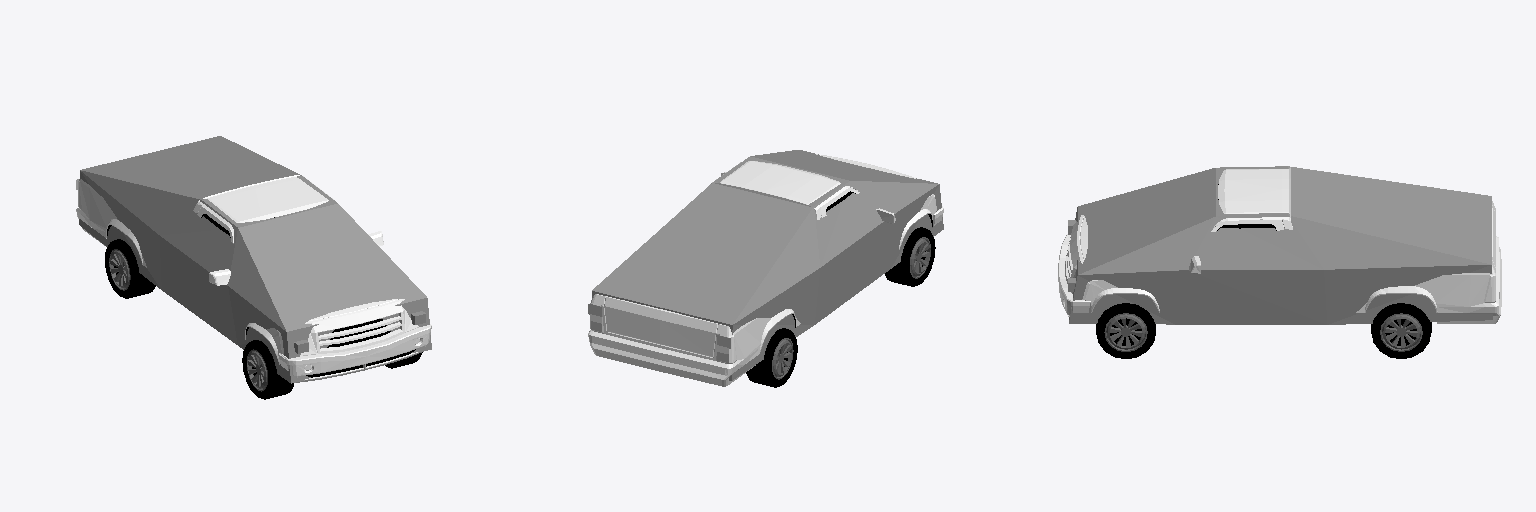
File: vpYour.obj
3 renders of one model, left to right at view 1: azimuth 30°, elevation 25°; view 2: azimuth 150°, elevation 25°; view 3: azimuth 270°, elevation 25°, orthographic.
Parts seen in each view (by area): view 1: collision, body, wheel_fr, wheel_rr; view 2: collision, body, wheel_rr, wheel_fr; view 3: collision, body, wheel_rl, wheel_fl.
Boxes of the visible parts, <box> form: collision: <box>79,136,431,383</box>; body: <box>76,175,431,382</box>; wheel_fr: <box>242,340,293,399</box>; wheel_rr: <box>105,239,155,298</box>; collision: <box>592,150,943,380</box>; body: <box>588,154,943,386</box>; wheel_rr: <box>746,328,797,387</box>; wheel_fr: <box>885,227,935,286</box>; collision: <box>1069,166,1492,324</box>; body: <box>1058,167,1501,323</box>; wheel_rl: <box>1371,303,1431,358</box>; wheel_fl: <box>1096,303,1155,358</box>.
Bounding box in the file's own units: 1.65 × 1.23 × 3.67.